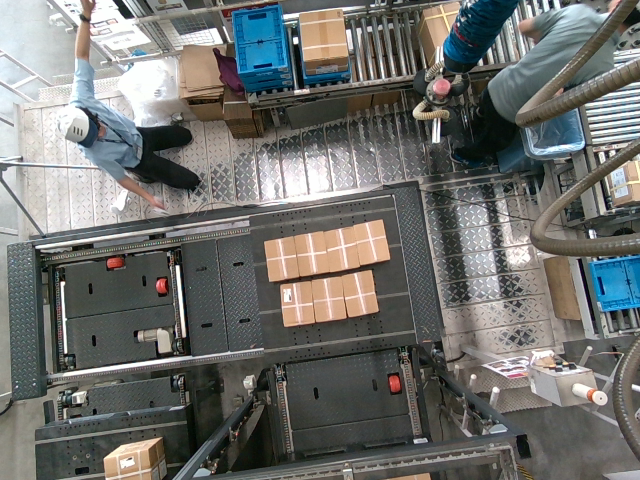box: (262, 236, 298, 280), (293, 229, 329, 273), (324, 228, 360, 272), (352, 219, 388, 263), (277, 282, 313, 326), (309, 277, 345, 321), (342, 271, 378, 315)
